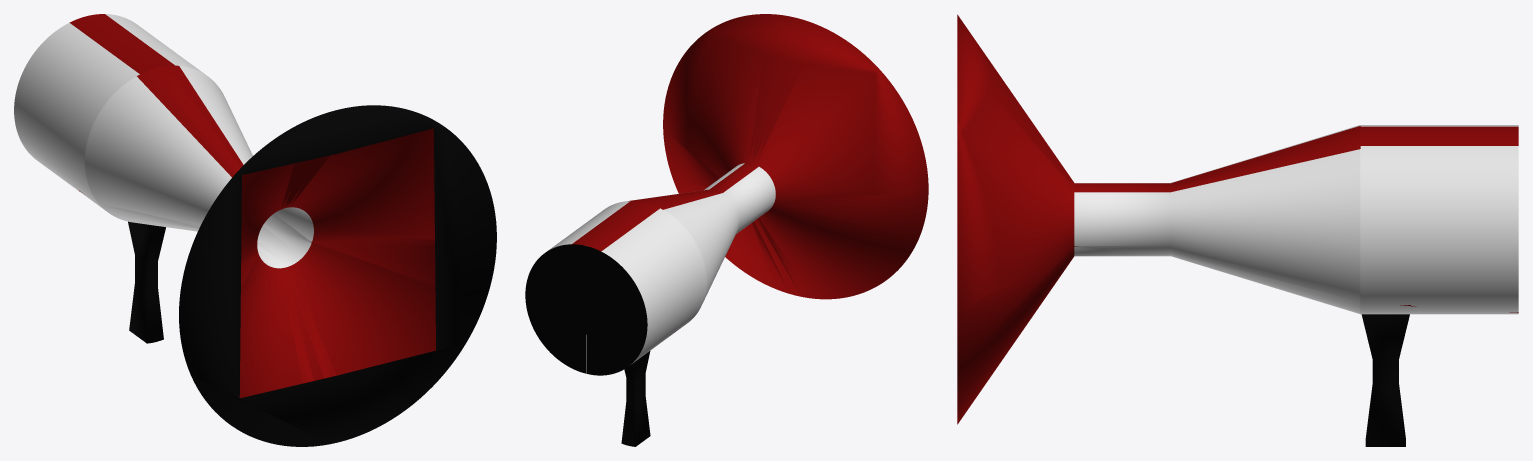
File: Gun_1.fbx
The picture shows the model from 3 angles, left to right: view 1: azimuth 30°, elevation 25°; view 2: azimuth 150°, elevation 25°; view 3: azimuth 270°, elevation 25°; orthographic projection. The views are drawn at different scales.
Parts seen in each view (by area): view 1: Cylinder; view 2: Cylinder; view 3: Cylinder.
Boxes of the visible parts, x1,y1,x2,y2 form: Cylinder: (14, 14, 496, 446); Cylinder: (525, 14, 928, 446); Cylinder: (957, 14, 1518, 446).
Bounding box in the file's own units: 435 × 478 × 594.
